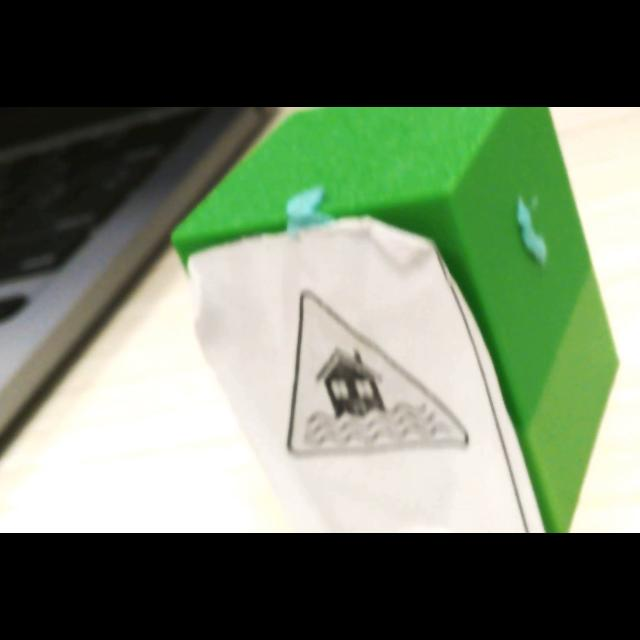Tsunami: (287, 290, 469, 457)
